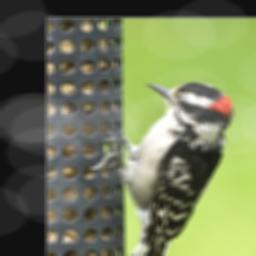Woodpecker: (95, 78, 233, 256)
